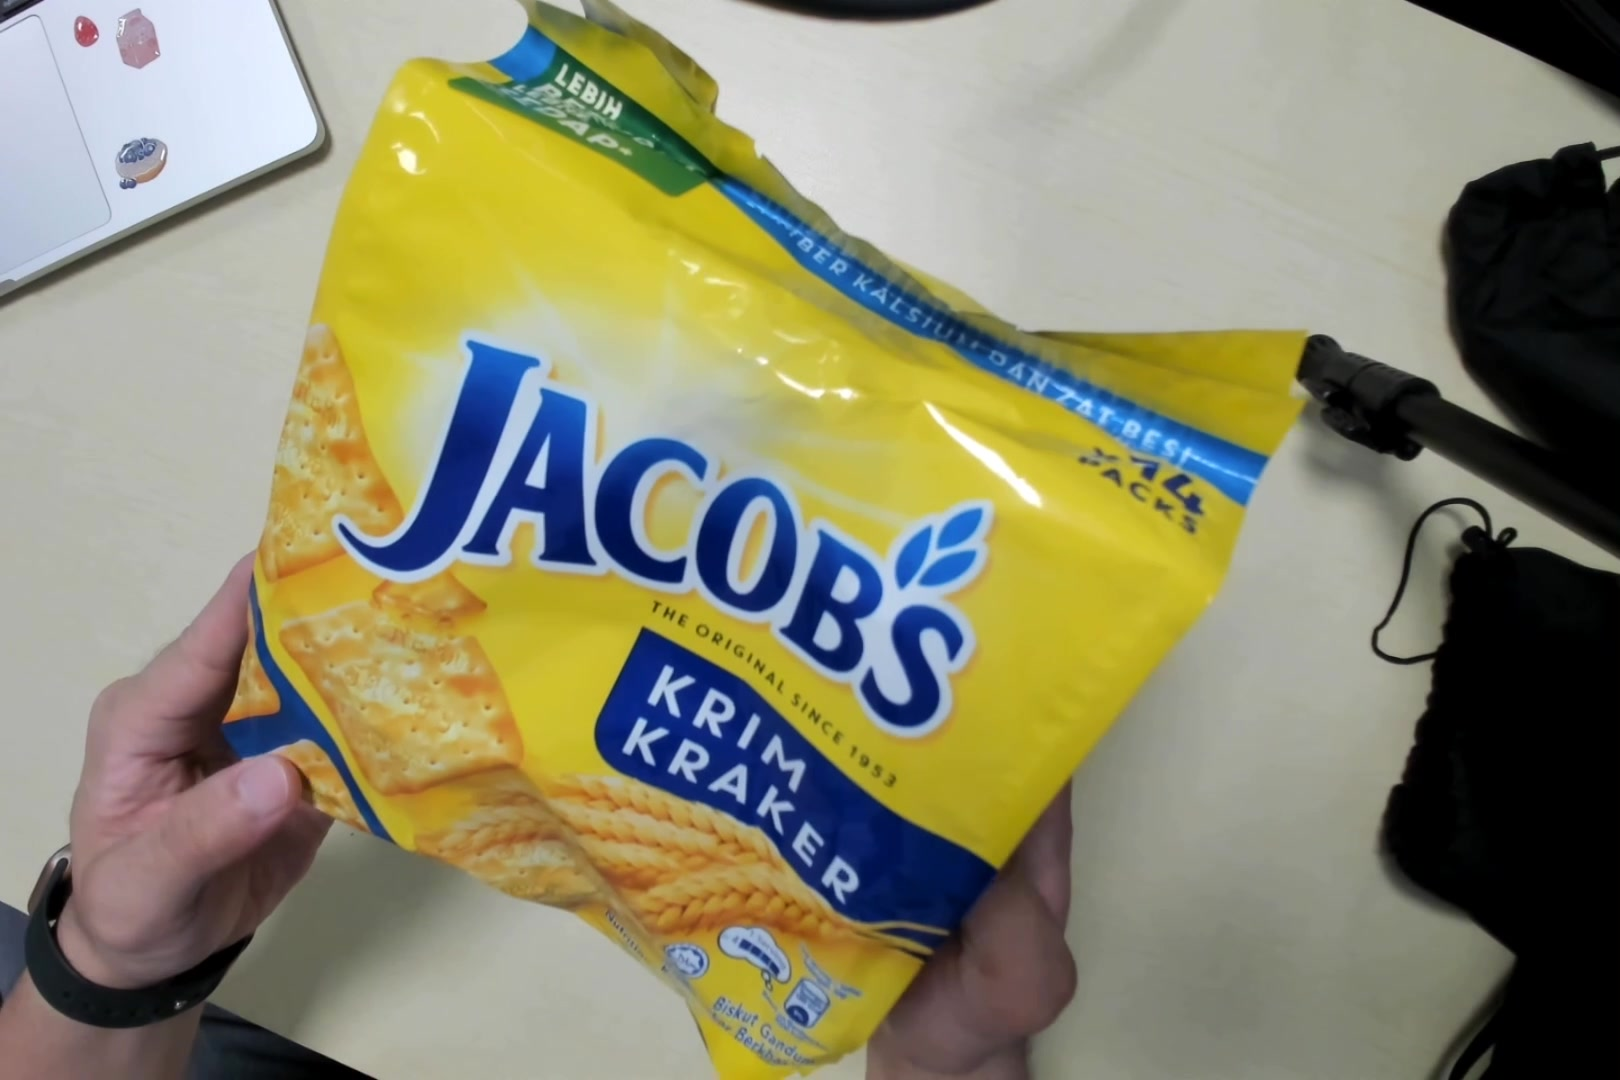BiscuitCrackersCookies_500-599g_Halal_NonHealthy: (243, 12, 1260, 1079)
